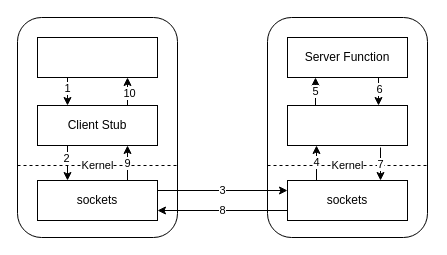
The diagram is 447 pixels wide and 255 high, and some of its shapes have lost their labels. Each missing label, with the centre of its shape:
"Client Function" belongs at [97,57].
"Server Stub" belongs at [347,125].
